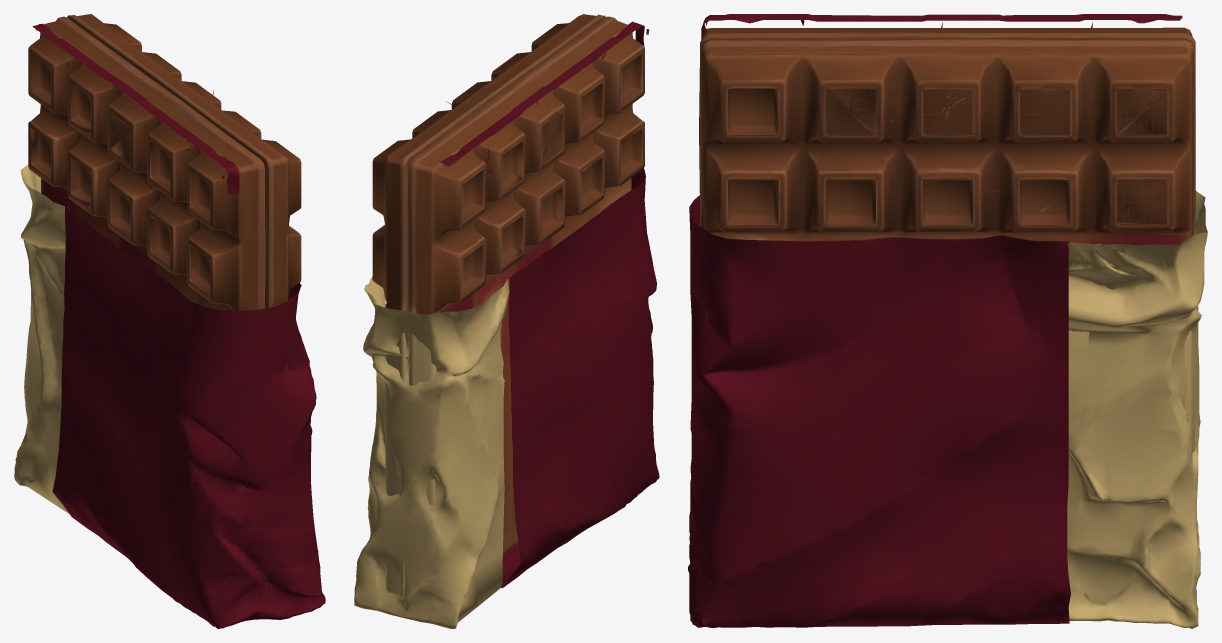
Rendered from royal-chocolate.glb.
3 renders of one model, left to right at view 1: azimuth 30°, elevation 25°; view 2: azimuth 150°, elevation 25°; view 3: azimuth 270°, elevation 25°, orthographic. The views are drawn at different scales.
Visible parts, largest first — view 1: tripo_node_c7924edc-b15b-4ac3-9e18-99ea0ecd520e; view 2: tripo_node_c7924edc-b15b-4ac3-9e18-99ea0ecd520e; view 3: tripo_node_c7924edc-b15b-4ac3-9e18-99ea0ecd520e.
Boxes of the visible parts, x1,y1,x2,y2 form: tripo_node_c7924edc-b15b-4ac3-9e18-99ea0ecd520e: [14, 14, 325, 628]; tripo_node_c7924edc-b15b-4ac3-9e18-99ea0ecd520e: [354, 14, 659, 628]; tripo_node_c7924edc-b15b-4ac3-9e18-99ea0ecd520e: [688, 14, 1207, 628].
Bounding box in the file's own units: 0.3027 × 0.998 × 0.8379.
Materials: 1 (1 with a texture image).
